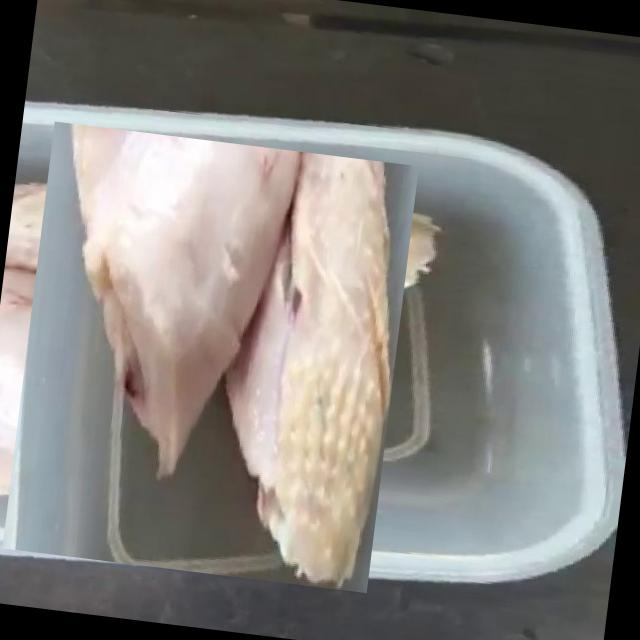chicken: (0, 134, 432, 579)
